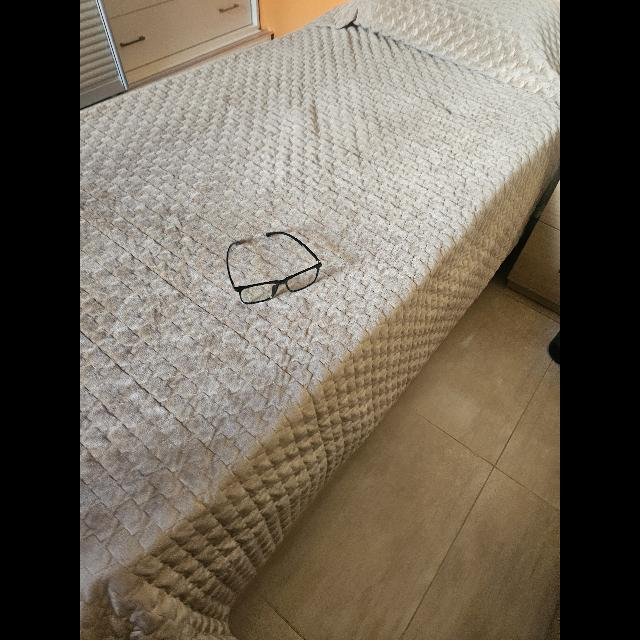glasses: (226, 232, 322, 304)
